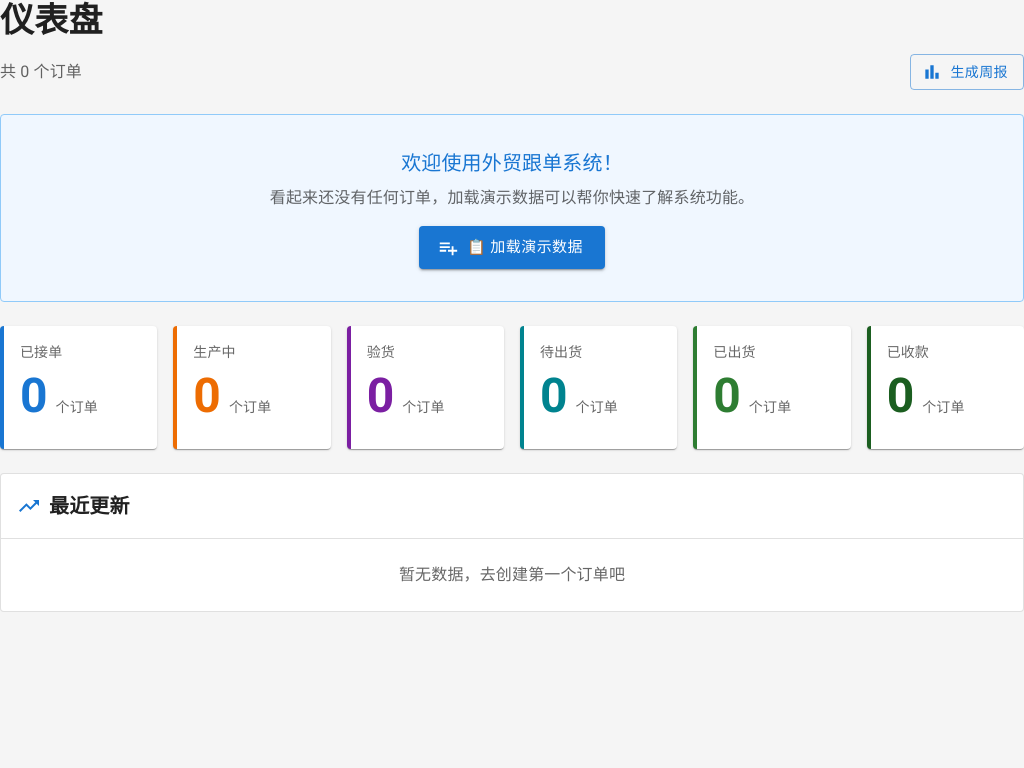
Test case: F1 — 加载演示数据 (Dashboard) › 演示数据内容 › 点击后加载 5 条订单
What coordinates should you click on to do the following:
click the button "📋 加载演示数据"
I would click on:
 (512, 248)
Its box is [419, 226, 605, 269].
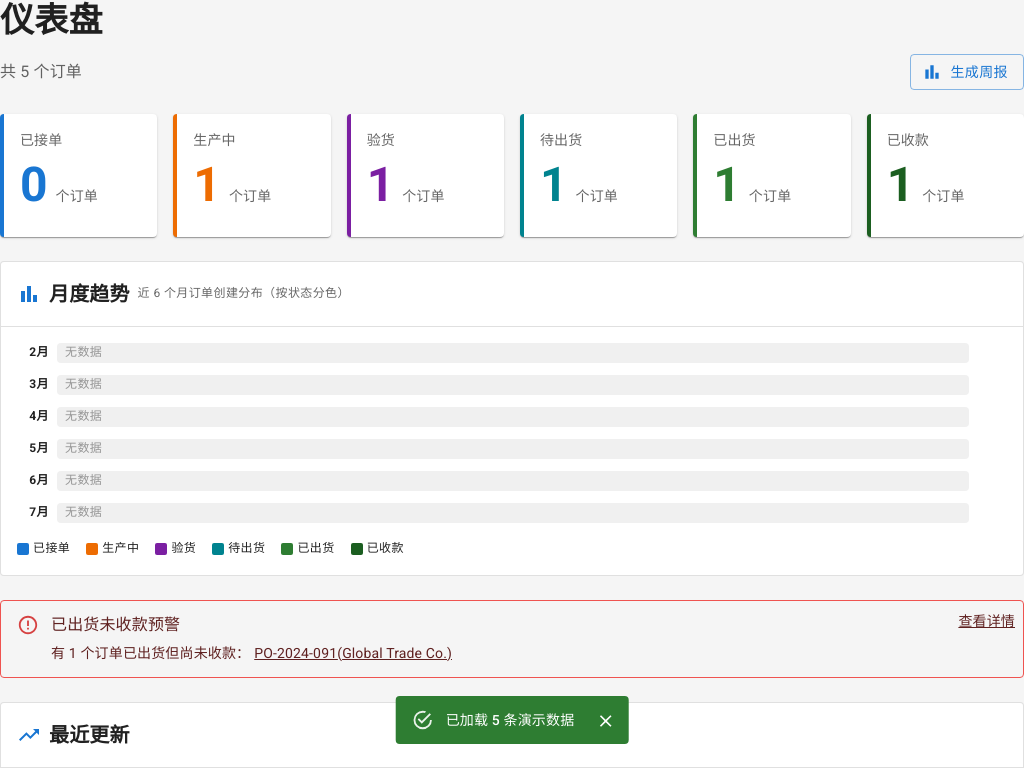
Now the text "加载演示数据" is gone
Now the text "共 5 个订单" is shown, box [0, 60, 82, 84]
